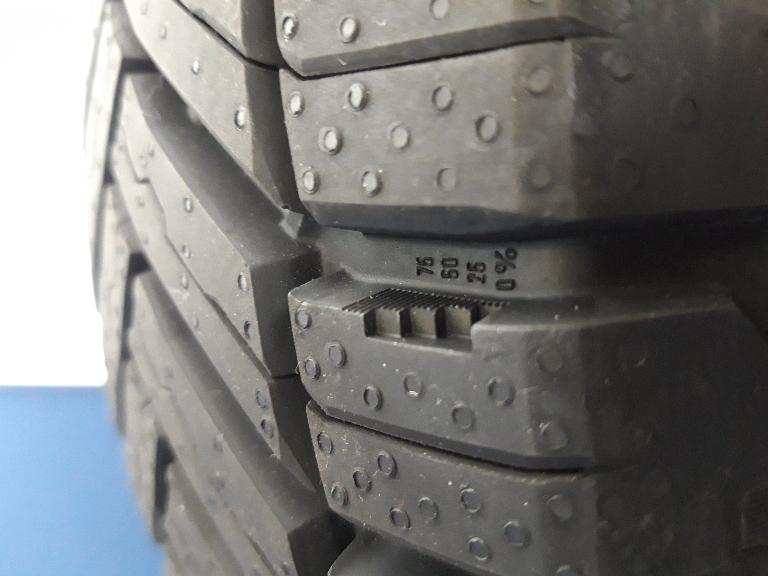temoin:100: (336, 282, 514, 361)
